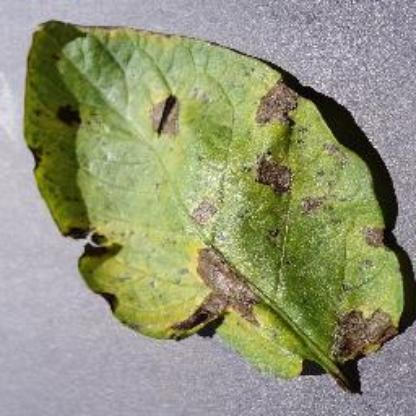Early-Blight: (19, 15, 416, 398)
